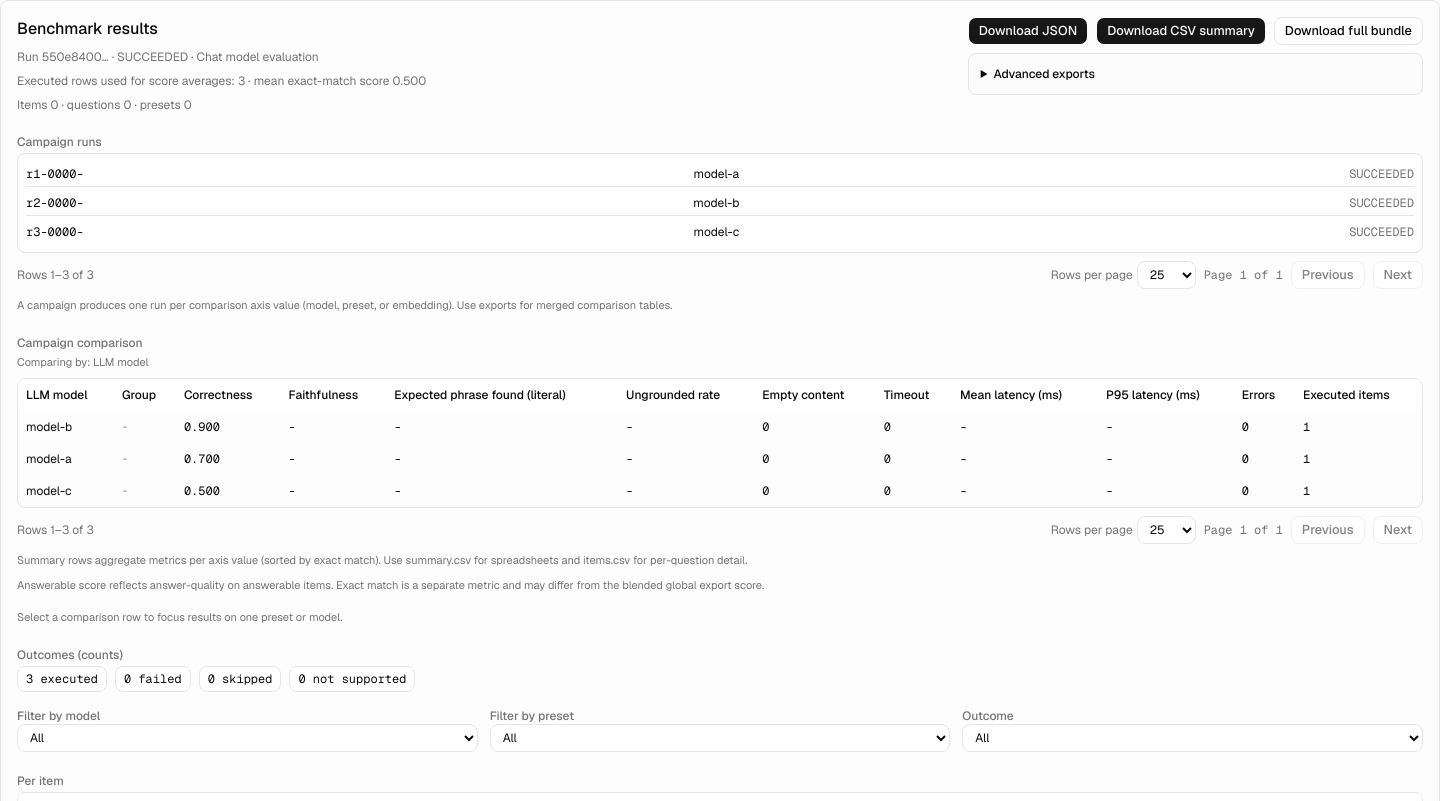
Scenario: LabBenchmarkResultsPanel › shows three comparison rows for a three-model LLM campaign
Check: the element with test id "lab-campaign-comparison-panel" is shown, box [17,330,1423,593]
What coordinates should you click on to do the following:
click the heading "Advanced exports"
I would click on:
 (1044, 74)
Its box is [993,66,1095,82].
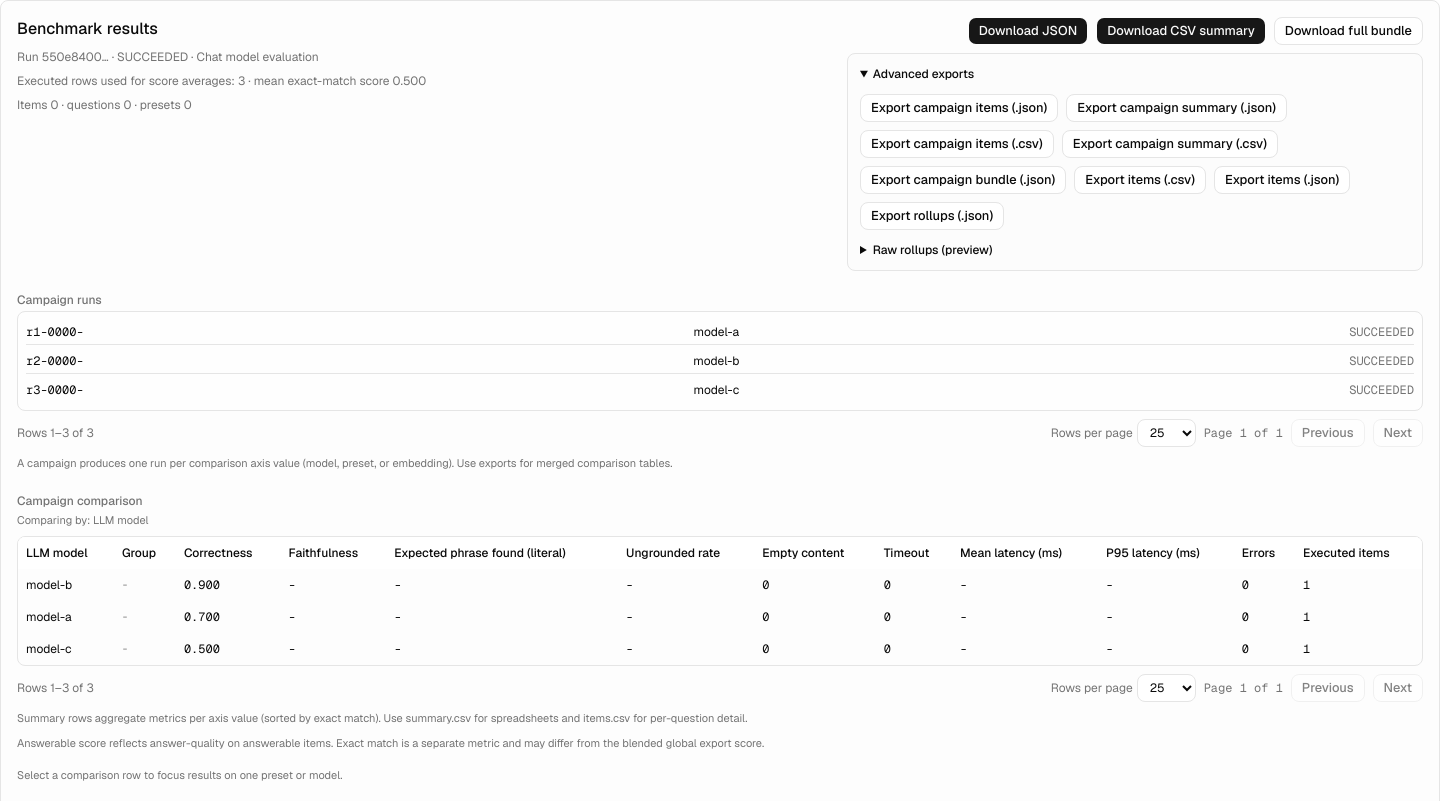
Check: the button with test id "lab-export-campaign-summary-csv" is shown, box [1062,130,1278,158]
